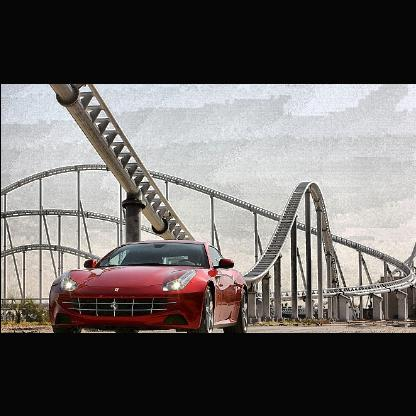Ferrari FF Coupe 2012: (49, 240, 250, 333)
